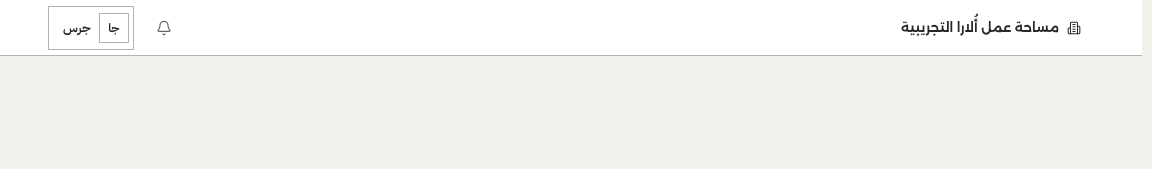
Test: InstitutionChip — passive pill vs switcher › multi-membership renders the switcher; the current row is truthfully disabled
Click the button with aria-label "المؤسسة الحالية" at (991, 28), box [888,6,1094,50]
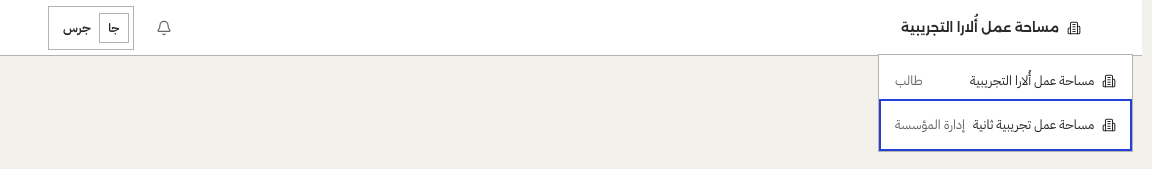
Now the menu named "تبديل المؤسسة" is shown, box [883,58,1128,146]
Now the number of menu items is 2, box [883,58,1128,102]; [883,102,1128,146]
Now the menu item "مساحة عمل أُلارا التجريبية طالب" is shown, box [883,58,1128,102]
